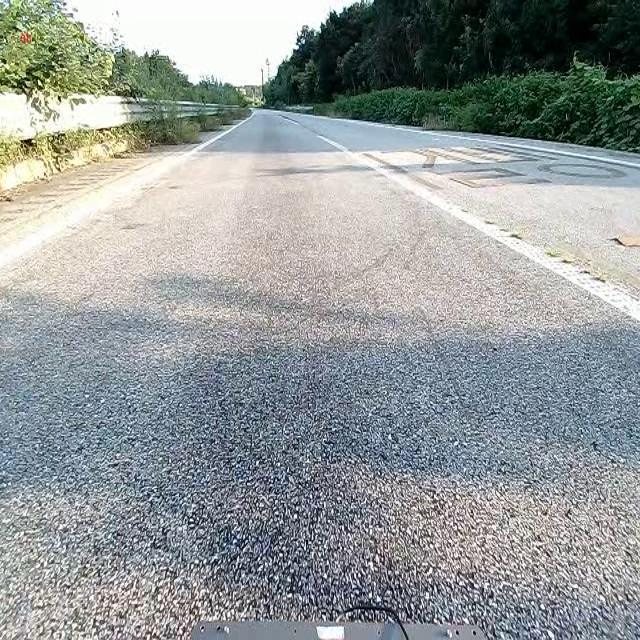Lane: (320, 130, 640, 322), (324, 140, 639, 321), (0, 120, 246, 275), (0, 122, 246, 272)
